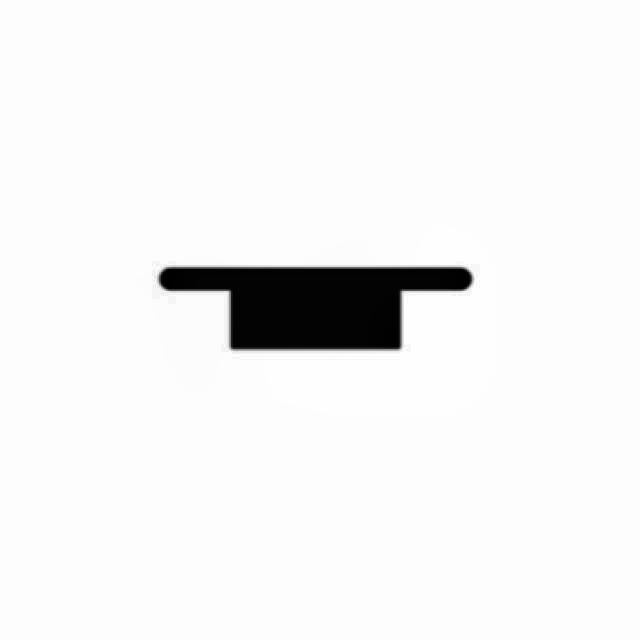Full-rest: (150, 256, 482, 360)
